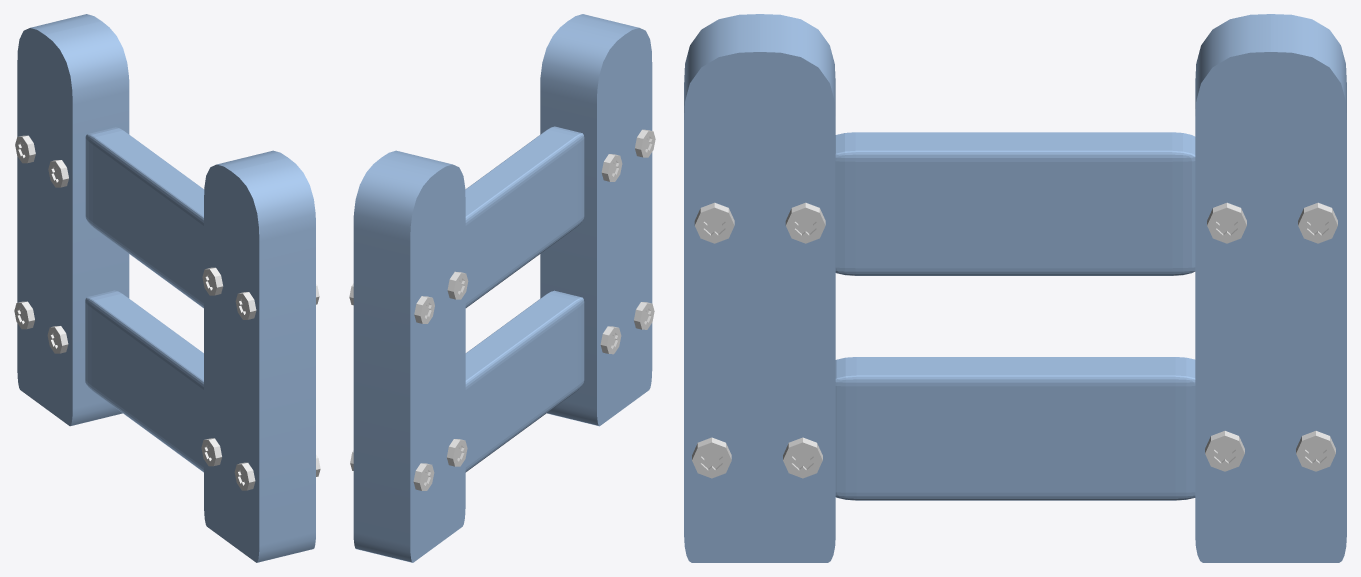
The model's file is vallaHORIZONTAL.fbx.
The picture shows the model from 3 angles, left to right: view 1: azimuth 30°, elevation 25°; view 2: azimuth 150°, elevation 25°; view 3: azimuth 270°, elevation 25°; orthographic projection. The views are drawn at different scales.
Parts seen in each view (by area): view 1: Cube.005, Cube.007, Cube.003, Cube.004, Cylinder.023, Cylinder.024, Cylinder.021, Cylinder.025, Cylinder.020, Cylinder.022, Cylinder.027, Cylinder.026; view 2: Cube.007, Cube.005, Cube.003, Cube.004, Cylinder.026, Cylinder.025, Cylinder.021, Cylinder.022, Cylinder.020, Cylinder.024, Cylinder.027, Cylinder.023; view 3: Cube.005, Cube.007, Cube.003, Cube.004, Cylinder.016, Cylinder.017, Cylinder.018, Cylinder.019, Cylinder.012, Cylinder.013, Cylinder.014, Cylinder.015.
Part boxes in pixels (<box>): Cube.005: <box>204,150,315,562</box>; Cube.007: <box>17,14,129,426</box>; Cube.003: <box>85,290,203,472</box>; Cube.004: <box>85,127,204,308</box>; Cylinder.023: <box>15,135,35,163</box>; Cylinder.024: <box>234,462,255,490</box>; Cylinder.021: <box>14,301,34,329</box>; Cylinder.025: <box>201,438,221,466</box>; Cylinder.020: <box>47,326,68,353</box>; Cylinder.022: <box>48,160,68,187</box>; Cylinder.027: <box>202,267,223,295</box>; Cylinder.026: <box>235,292,256,319</box>; Cube.007: <box>353,150,465,562</box>; Cube.005: <box>540,14,652,426</box>; Cube.003: <box>465,290,584,472</box>; Cube.004: <box>465,126,584,307</box>; Cylinder.026: <box>635,129,655,157</box>; Cylinder.025: <box>600,326,621,354</box>; Cylinder.021: <box>413,463,434,490</box>; Cylinder.022: <box>447,271,468,299</box>; Cylinder.020: <box>446,439,467,466</box>; Cylinder.024: <box>634,302,654,329</box>; Cylinder.027: <box>601,154,622,181</box>; Cylinder.023: <box>414,296,434,323</box>; Cube.005: <box>684,14,835,562</box>; Cube.007: <box>1195,14,1346,562</box>; Cube.003: <box>835,357,1195,500</box>; Cube.004: <box>835,132,1195,275</box>; Cylinder.016: <box>694,202,734,243</box>; Cylinder.017: <box>785,202,825,243</box>; Cylinder.018: <box>692,437,731,478</box>; Cylinder.019: <box>783,437,822,478</box>; Cylinder.012: <box>1207,202,1246,243</box>; Cylinder.013: <box>1298,202,1337,243</box>; Cylinder.014: <box>1205,431,1244,471</box>; Cylinder.015: <box>1296,431,1335,471</box>.
Size of the model in its own units: 39.69 by 201 by 236.
